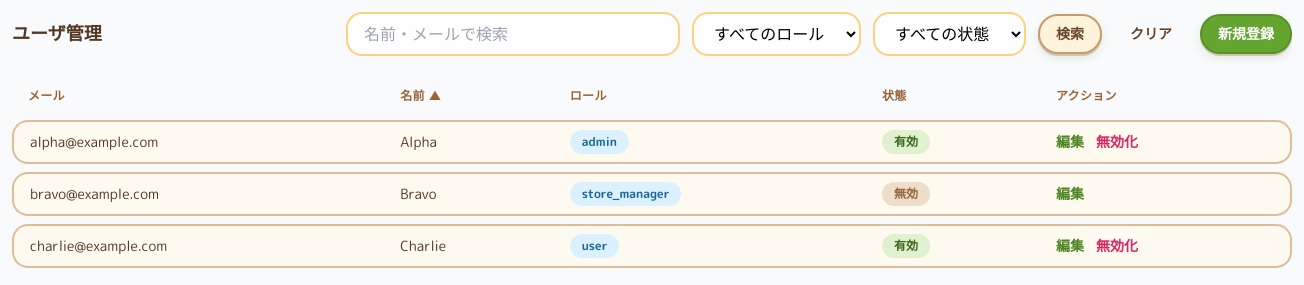
Test case: UserManagementPanel 検索・絞り込み・ソート › 検索ボタンを押すとロールで絞り込まれる
Check: the text "Charlie" is shown, box 384,224 -> 554,268
Select "admin" in the 1st dropdown showing "すべてのロール" at (776, 34), box 692,12 -> 861,56
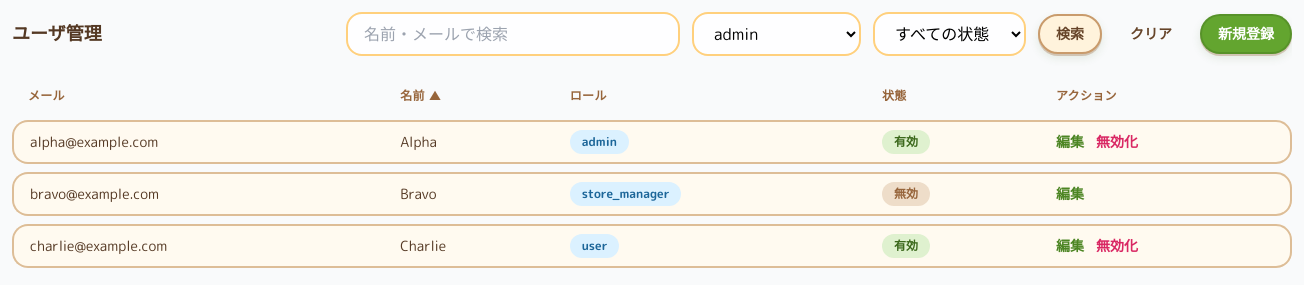
Click the button "検索".
click(1070, 34)  # box 1038,14 -> 1102,54
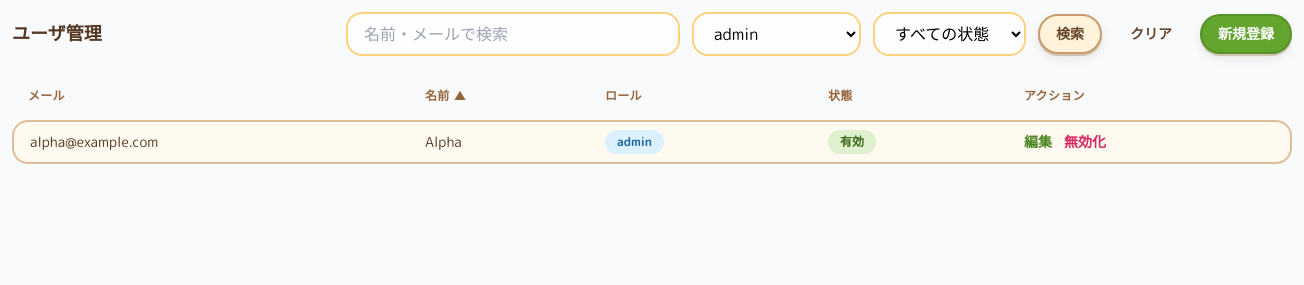
Check: the text "Alpha" is shown, box 409,120 -> 589,164
Check: the text "charlie" is gone
Check: the text "bravo" is gone
